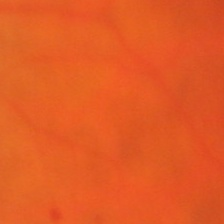MA: (50, 208, 61, 221), (93, 215, 104, 224)
